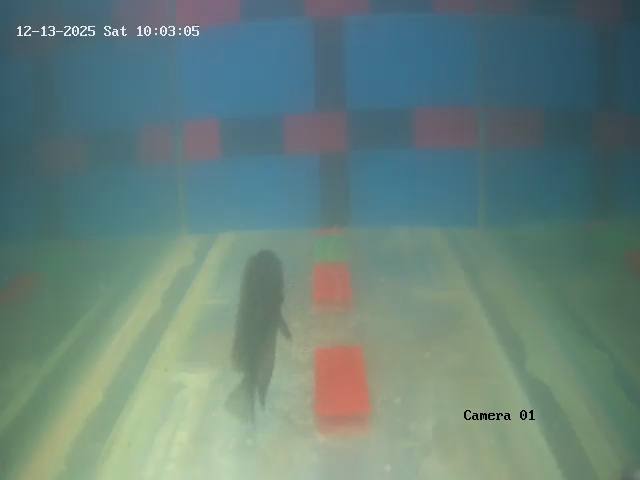fish: (230, 254, 293, 381)
